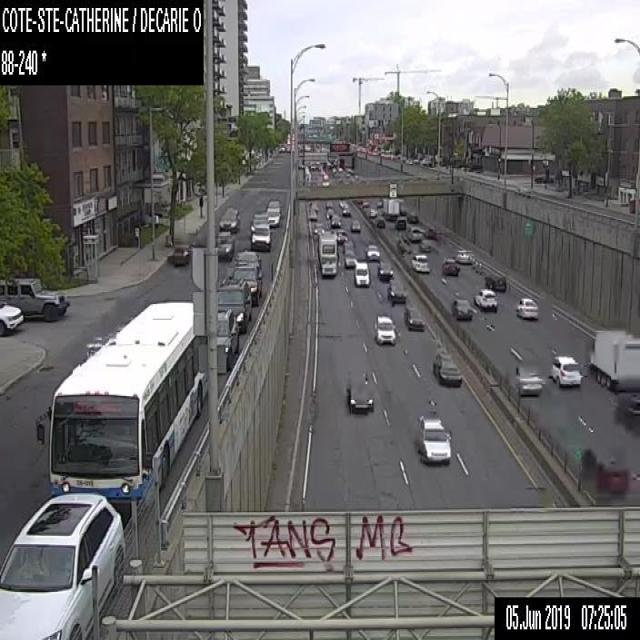bus: (36, 301, 206, 509)
pedestrian: (197, 192, 203, 217)
vehicle: (0, 492, 125, 639), (587, 328, 639, 391), (0, 276, 69, 319), (578, 444, 628, 497), (216, 275, 251, 332), (419, 416, 450, 465), (216, 308, 238, 366), (229, 265, 260, 306), (508, 361, 545, 395), (345, 380, 373, 415), (432, 352, 461, 385), (614, 392, 639, 430), (233, 250, 262, 282), (317, 232, 338, 276), (551, 355, 580, 385), (0, 301, 23, 334), (373, 313, 395, 344), (473, 288, 497, 312), (215, 230, 234, 260), (386, 280, 407, 307), (218, 207, 240, 232), (251, 222, 270, 250), (403, 306, 424, 330), (169, 244, 191, 265), (483, 271, 506, 291), (516, 298, 538, 318), (452, 298, 472, 320), (381, 197, 398, 220), (353, 262, 369, 286), (376, 260, 393, 281), (250, 213, 268, 232), (411, 253, 428, 271), (441, 257, 458, 275), (455, 249, 474, 264), (266, 206, 280, 226), (407, 226, 423, 242), (342, 251, 357, 267), (364, 244, 378, 260), (266, 200, 280, 215), (418, 239, 431, 252), (336, 228, 348, 242), (534, 174, 553, 182), (373, 216, 385, 228), (342, 241, 354, 252), (394, 216, 405, 228), (313, 222, 324, 234), (406, 212, 417, 223), (424, 228, 436, 238), (330, 214, 340, 226), (350, 220, 360, 231), (308, 200, 318, 211), (341, 206, 350, 216), (308, 209, 316, 220), (325, 208, 333, 218), (368, 207, 376, 217), (338, 200, 348, 208), (324, 200, 334, 207)
